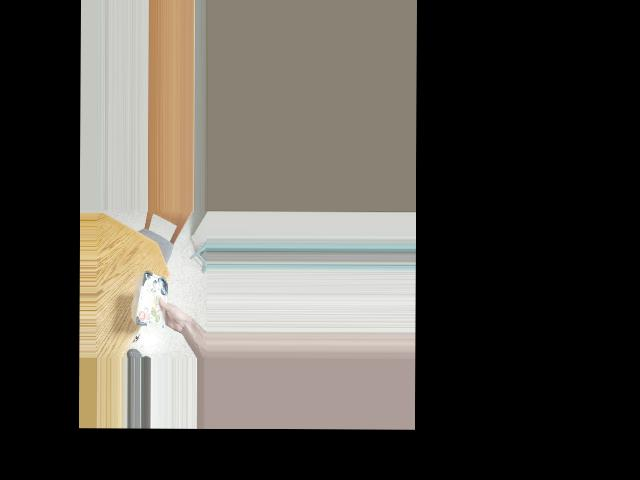cheese: (134, 274, 173, 325)
